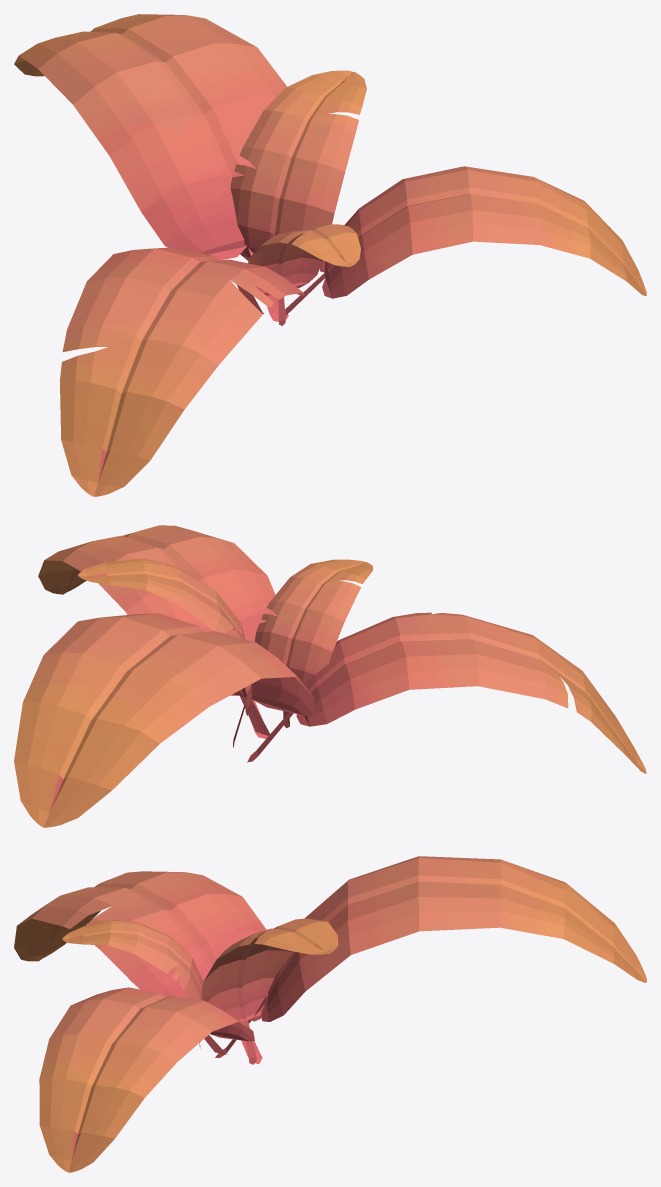
File: plantC.glb
The picture shows the model from 3 angles, top to bottom: view 1: azimuth 30°, elevation 25°; view 2: azimuth 150°, elevation 25°; view 3: azimuth 270°, elevation 25°; orthographic projection. The views are drawn at different scales.
Parts seen in each view (by area): view 1: plantB; view 2: plantB; view 3: plantB.
Boxes of the visible parts, box(x1,y1,x2,y2) form: plantB: box(14, 14, 646, 496); plantB: box(14, 525, 646, 827); plantB: box(14, 856, 646, 1172).
Size of the model in its own units: 1.27 by 0.4699 by 1.27.
1 material, 1 textured.
